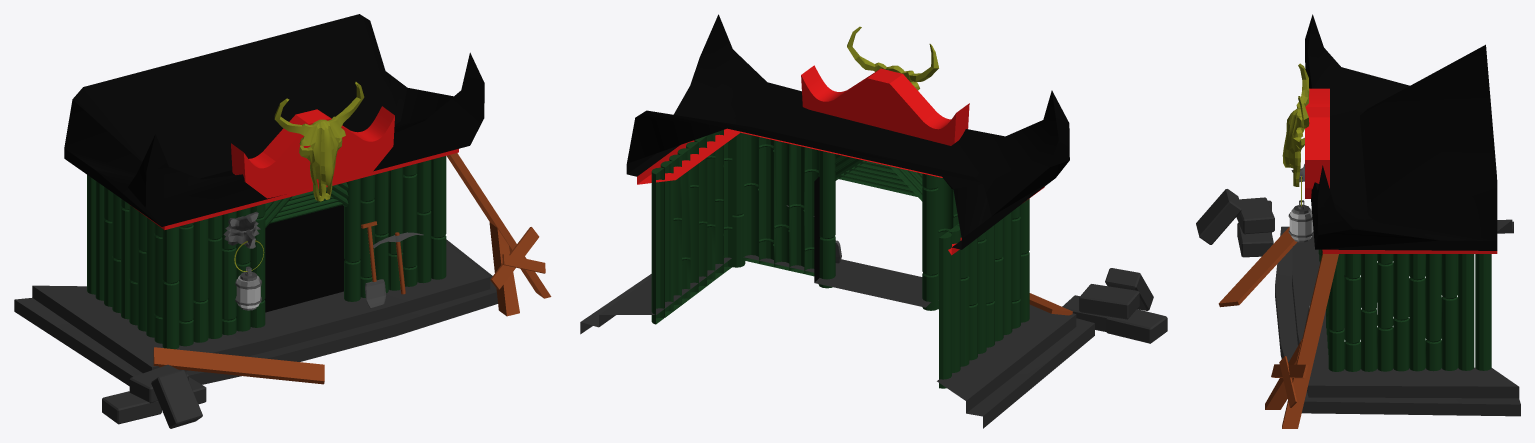
File: mine.FBX
3 renders of one model, left to right at view 1: azimuth 30°, elevation 25°; view 2: azimuth 150°, elevation 25°; view 3: azimuth 270°, elevation 25°, orthographic. The views are drawn at different scales.
Visible parts, largest first — view 1: mine; view 2: mine; view 3: mine.
Boxes of the visible parts, x1,y1,x2,y2 form: mine: [14, 14, 551, 428]; mine: [580, 14, 1167, 428]; mine: [1196, 14, 1520, 428].
Bounding box in the file's own units: 60.63 × 32.42 × 38.73.
